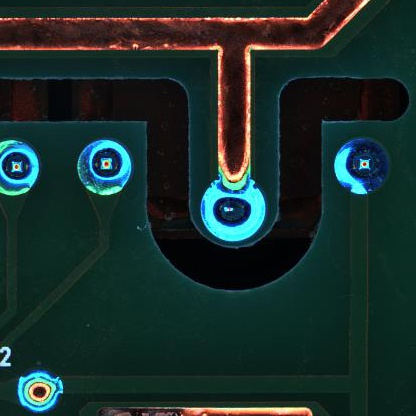spot: (201, 179, 265, 244), (334, 136, 390, 196), (77, 140, 132, 196), (1, 139, 41, 197), (18, 369, 63, 414)
